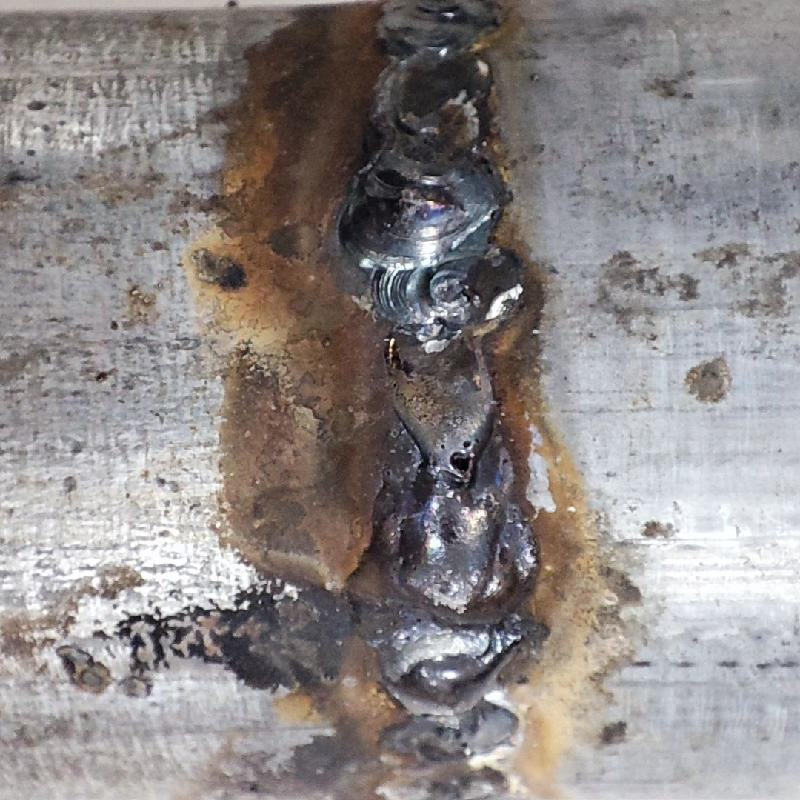Not_fully_soldered: (367, 264, 513, 483)
Surface_pores: (433, 431, 484, 487)
Weld: (353, 484, 538, 716)
wrong_size: (352, 0, 500, 265)
